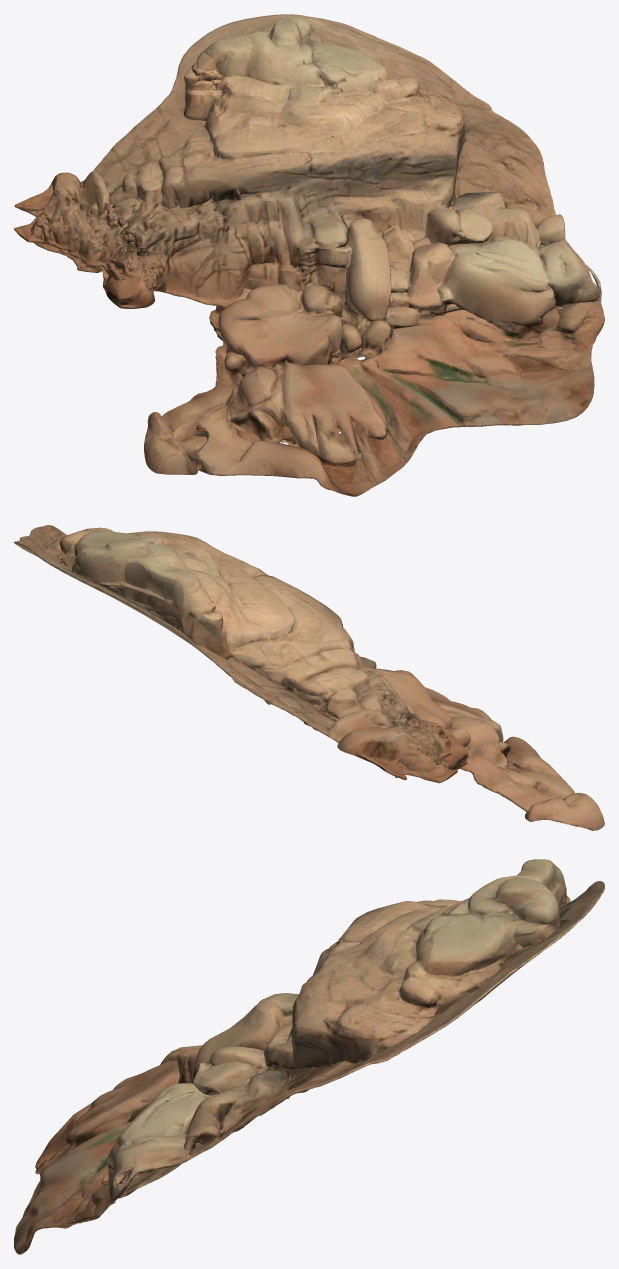
The model's file is crystal-grain-v8.glb.
The picture shows the model from 3 angles, top to bottom: view 1: azimuth 30°, elevation 25°; view 2: azimuth 150°, elevation 25°; view 3: azimuth 270°, elevation 25°; orthographic projection. The views are drawn at different scales.
Visible parts, largest first — view 1: geometry_0; view 2: geometry_0; view 3: geometry_0.
Boxes of the visible parts, x1,y1,x2,y2 form: geometry_0: (14, 14, 604, 496); geometry_0: (14, 525, 604, 830); geometry_0: (14, 859, 604, 1254).
Size of the model in its own units: 14.99 by 9.86 by 14.57.
1 material, 1 textured.
